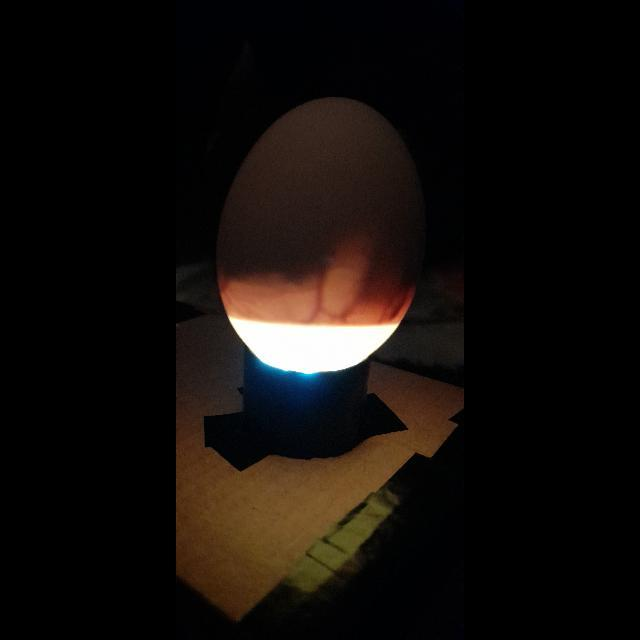Fertile: (212, 88, 420, 374)
